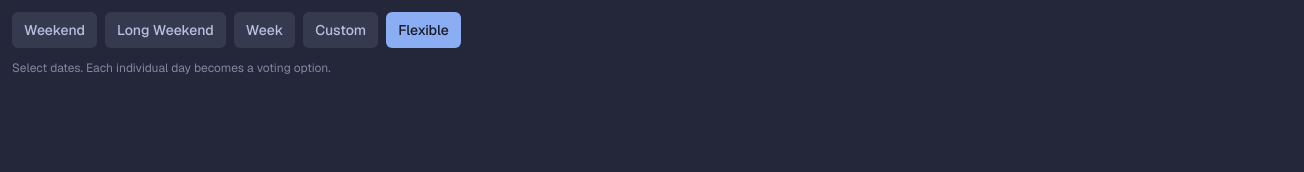
Test case: PatternPicker › custom weekday calendar › shows mini week calendar when custom is selected
Click the button "Custom". click: (341, 30)
box: [303,12,378,48]
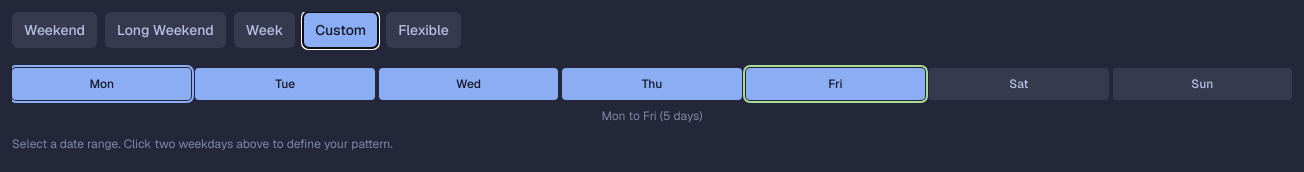
Expected: the button "Sun" is shown, [1113,68,1292,100]
Expected: the button "Mon" is shown, [12,68,191,100]
Expected: the button "Tue" is shown, [195,68,375,100]
